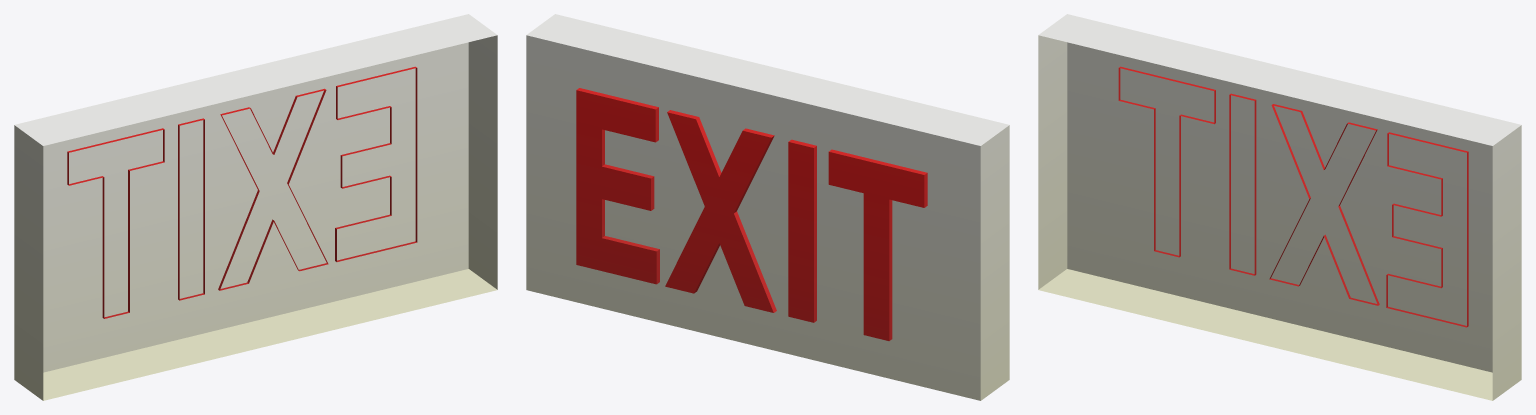
The model's file is CR_RoomLight_exit.fbx.
3 views of the same model, side by side, from view 1: azimuth 30°, elevation 25°; view 2: azimuth 150°, elevation 25°; view 3: azimuth 330°, elevation 25° (orthographic).
Visible parts, largest first — view 1: CR_RoomLight_exit; view 2: CR_RoomLight_exit; view 3: CR_RoomLight_exit.
Boxes of the visible parts, left/top/right/bottom form: CR_RoomLight_exit: left=14, top=14, right=497, bottom=400; CR_RoomLight_exit: left=526, top=14, right=1009, bottom=400; CR_RoomLight_exit: left=1038, top=14, right=1521, bottom=400.
Size of the model in its own units: 60.1 by 32.2 by 7.35.
